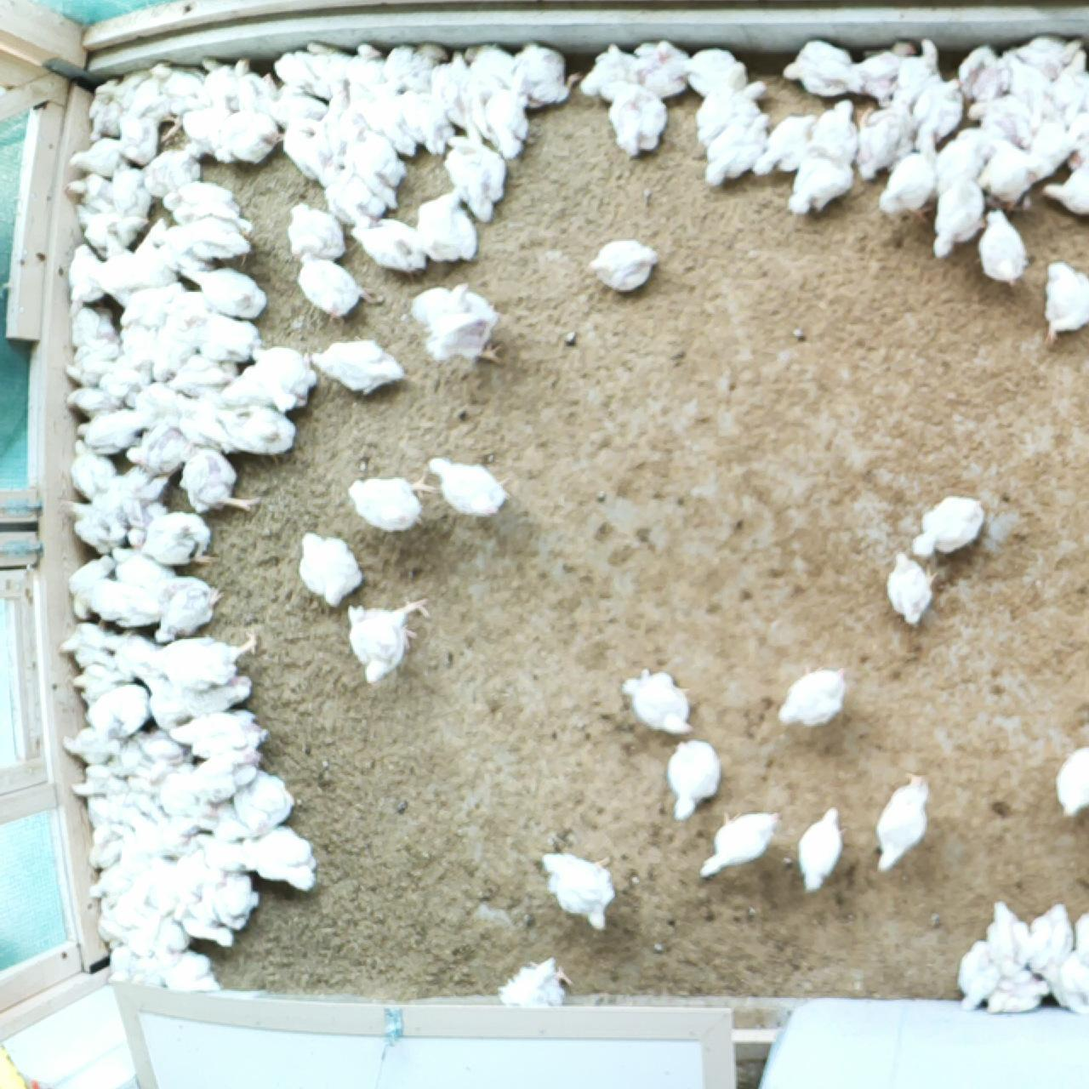chicken: (408, 275, 514, 374), (346, 587, 435, 691), (534, 847, 622, 938), (693, 794, 787, 879), (146, 628, 263, 693), (171, 439, 260, 519), (224, 337, 314, 416), (874, 763, 938, 872), (442, 132, 513, 227), (308, 334, 407, 400), (227, 824, 324, 891), (657, 729, 723, 827), (149, 670, 258, 729), (426, 449, 516, 520), (617, 662, 697, 741), (163, 704, 273, 761), (846, 88, 914, 180), (150, 569, 230, 647), (694, 76, 774, 153), (345, 470, 436, 537), (698, 108, 773, 189), (777, 654, 850, 737), (909, 488, 989, 562), (294, 527, 368, 607), (177, 261, 274, 322), (974, 199, 1035, 295), (133, 501, 218, 569), (605, 78, 672, 161), (348, 212, 430, 278), (749, 104, 821, 179), (845, 31, 917, 106), (786, 155, 860, 226), (345, 124, 406, 210), (969, 143, 1042, 213), (415, 187, 482, 263), (879, 548, 941, 630), (931, 180, 991, 264), (160, 178, 249, 234), (357, 84, 419, 163), (491, 952, 574, 1011), (394, 78, 453, 161), (172, 780, 254, 839), (297, 251, 367, 320), (979, 891, 1032, 982), (1039, 252, 1089, 348), (794, 802, 846, 894), (875, 152, 946, 219), (163, 209, 251, 263), (781, 37, 855, 101), (591, 232, 662, 298), (1027, 894, 1079, 983), (229, 767, 297, 835), (516, 37, 579, 110), (948, 934, 1005, 1014), (1000, 24, 1084, 78), (914, 70, 968, 154), (976, 968, 1057, 1023), (211, 107, 285, 166), (892, 33, 950, 108), (1043, 739, 1089, 833), (51, 491, 120, 553), (282, 197, 349, 260), (933, 121, 1002, 181), (423, 42, 471, 128), (82, 684, 155, 740), (226, 403, 297, 460), (148, 59, 211, 121), (317, 162, 382, 221), (632, 30, 690, 96), (115, 725, 181, 782), (481, 88, 533, 160), (110, 283, 191, 329), (87, 894, 157, 947), (51, 617, 128, 665), (684, 36, 742, 99), (210, 867, 261, 938), (68, 406, 143, 454), (141, 140, 202, 198), (125, 416, 188, 472), (77, 200, 146, 251), (992, 45, 1046, 110), (97, 579, 167, 629), (1028, 113, 1089, 170), (192, 307, 256, 361), (577, 40, 632, 101), (193, 747, 255, 800), (66, 547, 111, 620), (147, 944, 218, 990), (63, 246, 109, 316), (1039, 150, 1089, 214), (969, 93, 1034, 142), (168, 347, 234, 395), (282, 112, 329, 179), (78, 76, 127, 140), (382, 40, 447, 88), (172, 847, 210, 929), (814, 98, 860, 165), (273, 42, 333, 93), (254, 85, 322, 130), (61, 437, 112, 496), (67, 657, 127, 707), (178, 901, 237, 950), (124, 807, 185, 854), (90, 245, 144, 298), (176, 393, 230, 446), (462, 41, 516, 93), (458, 59, 493, 139), (106, 158, 153, 217), (107, 543, 171, 586), (59, 339, 117, 386), (139, 216, 177, 287), (1052, 43, 1089, 113), (113, 107, 157, 164), (64, 132, 122, 175), (1052, 951, 1089, 1018), (150, 322, 194, 378), (100, 353, 148, 404), (957, 42, 998, 101), (103, 938, 152, 986), (64, 173, 113, 221), (180, 101, 230, 148), (336, 40, 387, 86), (63, 305, 120, 346), (60, 723, 113, 767), (87, 857, 147, 894), (137, 853, 178, 907), (324, 78, 367, 129), (147, 762, 195, 807), (115, 465, 166, 507), (190, 827, 242, 868), (118, 726, 170, 767), (112, 629, 153, 679), (131, 380, 185, 416), (112, 74, 159, 115), (203, 53, 239, 105), (88, 821, 129, 865), (233, 57, 272, 103), (113, 318, 155, 360), (160, 287, 208, 323), (151, 915, 195, 953), (63, 388, 113, 419), (83, 789, 126, 823), (74, 770, 118, 800)
